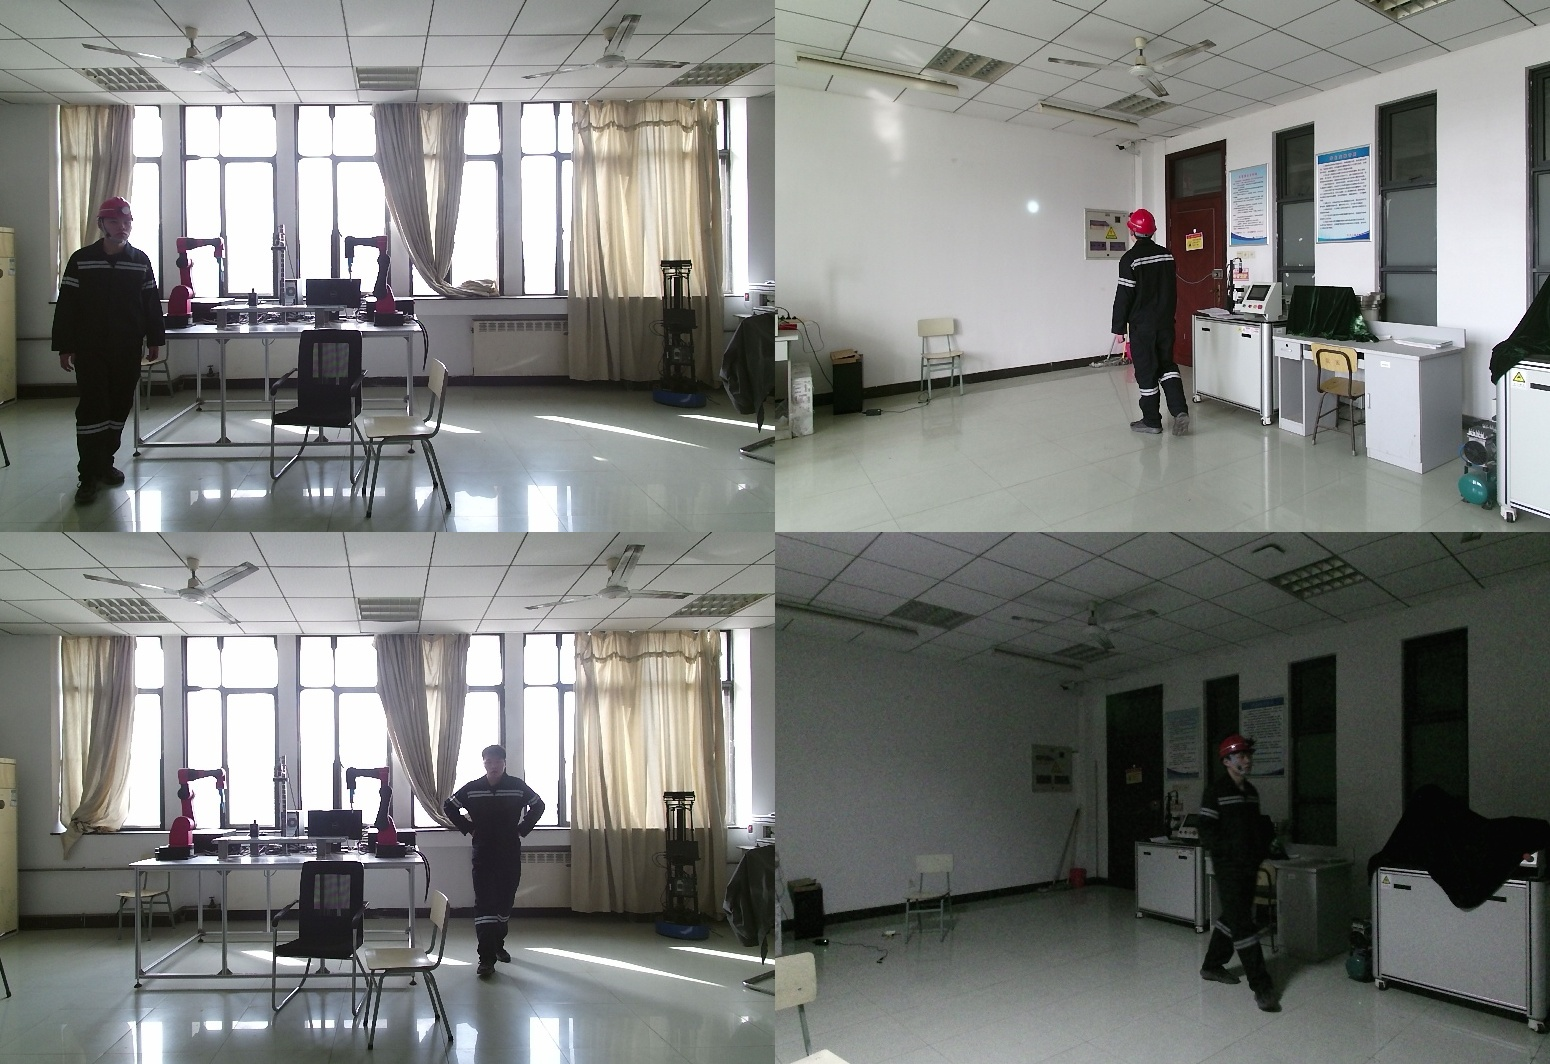person: (54, 198, 167, 501), (442, 745, 547, 982), (1188, 736, 1278, 1004), (1113, 210, 1197, 444)
